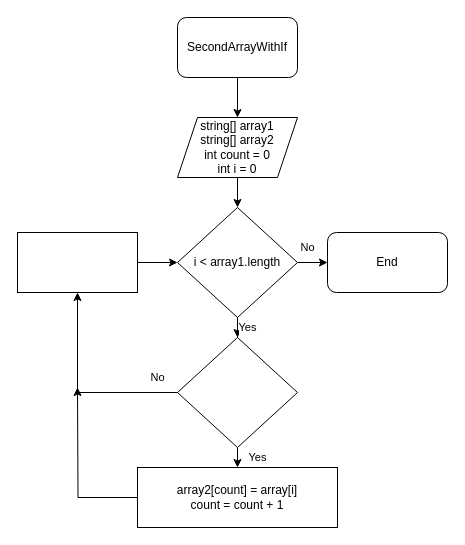
Image size: 465x545. Some labels were removed from this diagram. Each missing label, with the box of its shape:
array1[i].length <= 3: (176, 336, 298, 448)
i = i + 1: (16, 232, 138, 292)
